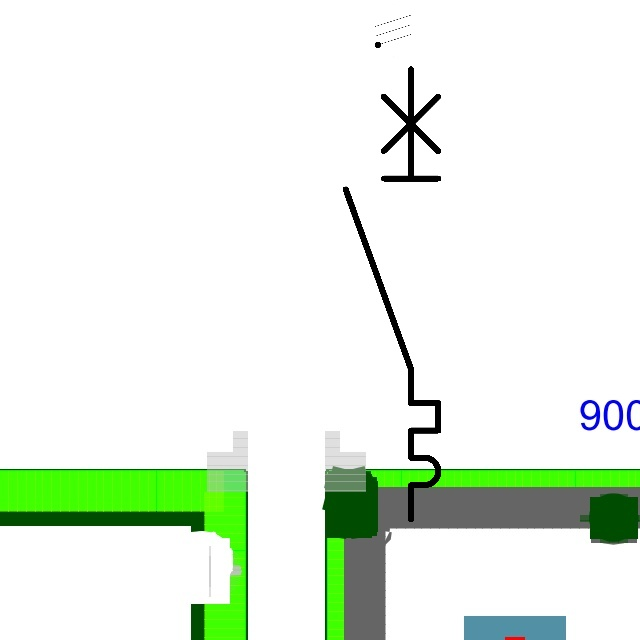interruptor_termomagnetico: (334, 57, 450, 530)
